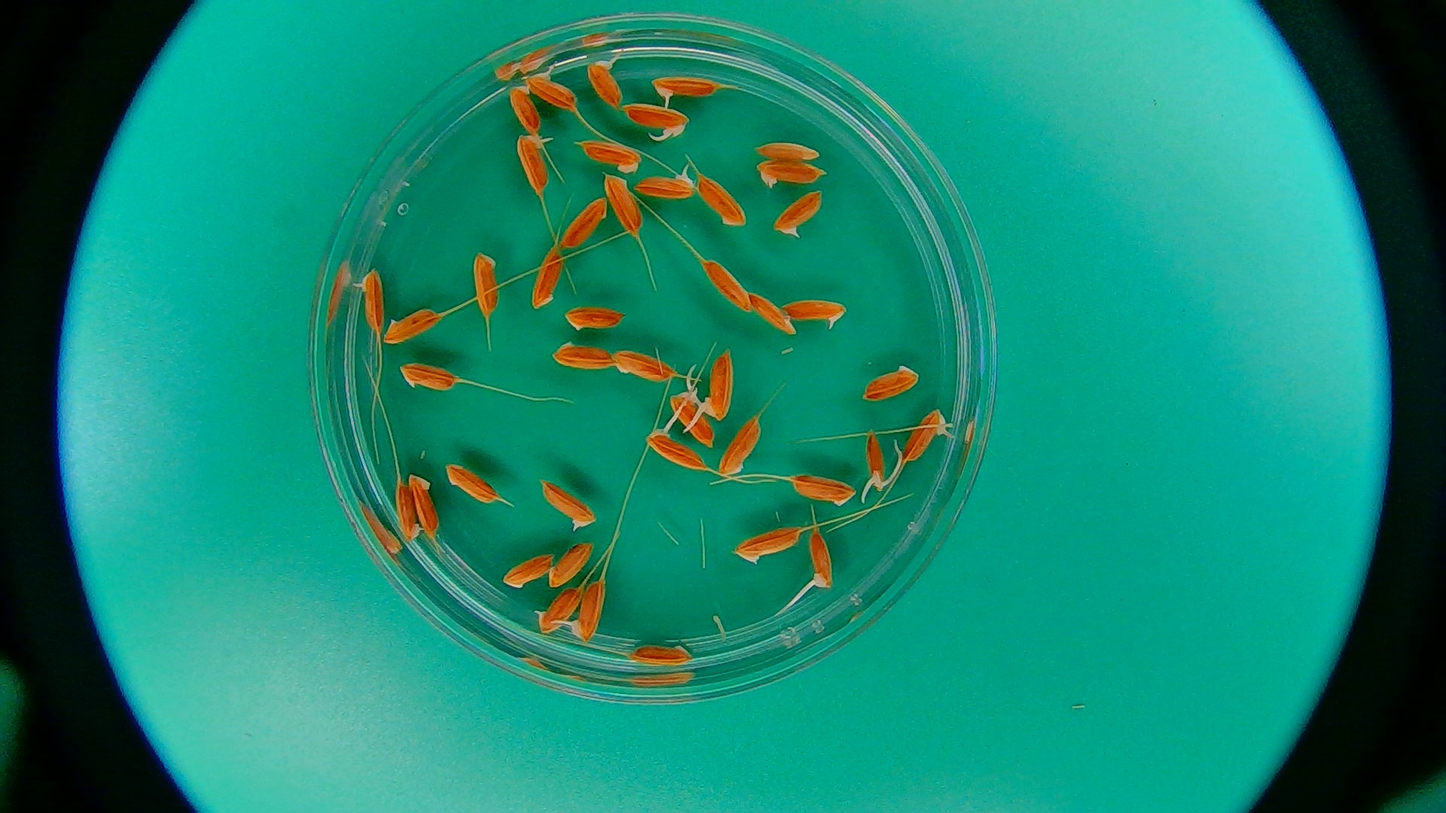no: (752, 159, 833, 193), (542, 481, 596, 531), (572, 138, 640, 177), (700, 259, 752, 310), (626, 637, 697, 674), (698, 174, 747, 227), (733, 527, 801, 564), (560, 196, 608, 248), (548, 540, 601, 586), (860, 361, 920, 401), (789, 473, 857, 506), (444, 462, 497, 504), (608, 173, 642, 238), (721, 422, 761, 475), (612, 349, 676, 382), (408, 474, 440, 538), (750, 291, 795, 336), (535, 587, 580, 632), (472, 251, 500, 322), (392, 481, 423, 542), (385, 309, 439, 344), (551, 340, 614, 370), (532, 248, 562, 310), (501, 553, 548, 589), (399, 362, 457, 391), (563, 305, 627, 331), (509, 85, 538, 135), (757, 140, 820, 160)
yes: (551, 579, 608, 645), (644, 428, 705, 471), (670, 390, 715, 446), (351, 264, 387, 332), (902, 408, 947, 461), (773, 190, 822, 238), (700, 355, 734, 421), (635, 163, 695, 199), (527, 69, 580, 109), (517, 134, 549, 197), (626, 102, 687, 134), (862, 428, 891, 491), (586, 59, 623, 108), (651, 75, 714, 103), (783, 297, 847, 324), (806, 532, 835, 589)
